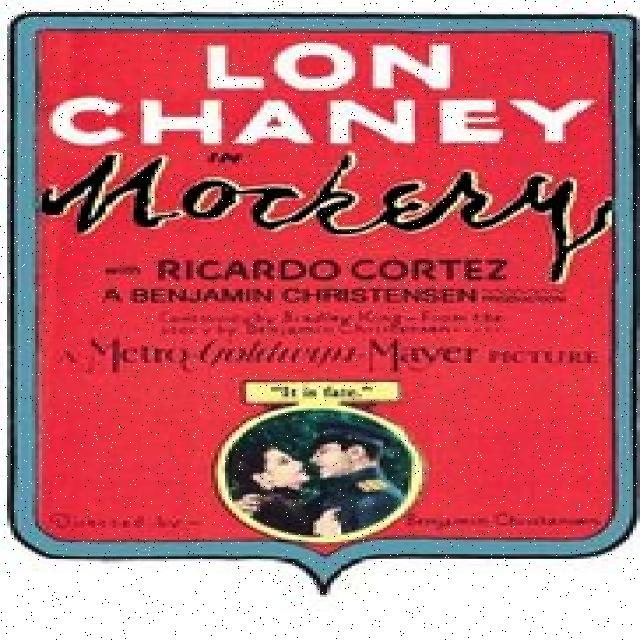movie-judul: (34, 32, 623, 306)
picture: (0, 6, 640, 603)
